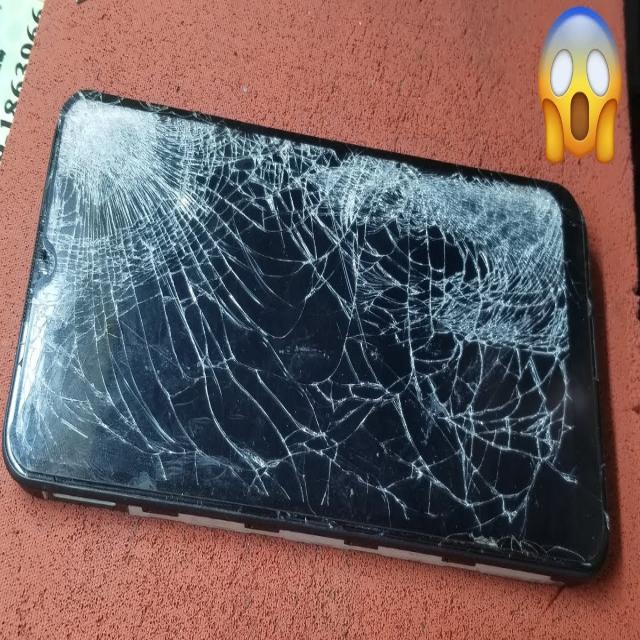mobile phone: (2, 86, 610, 588)
